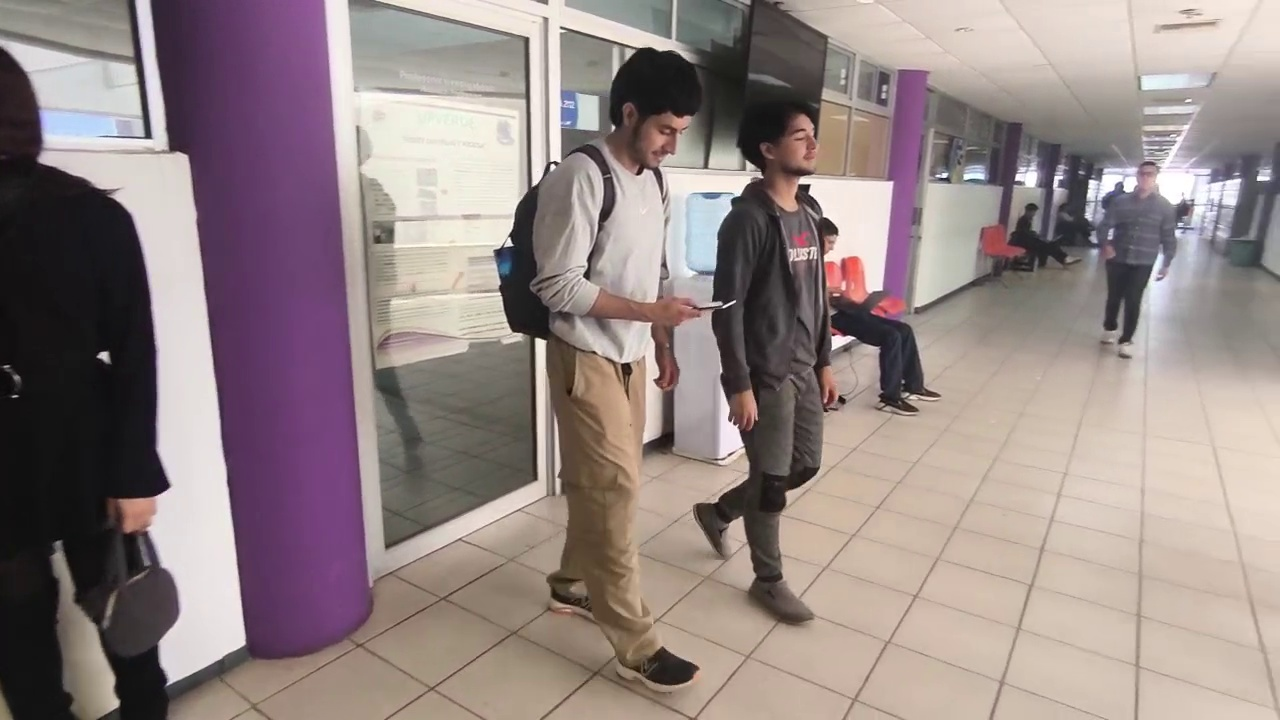mixto2: (695, 293, 740, 317)
